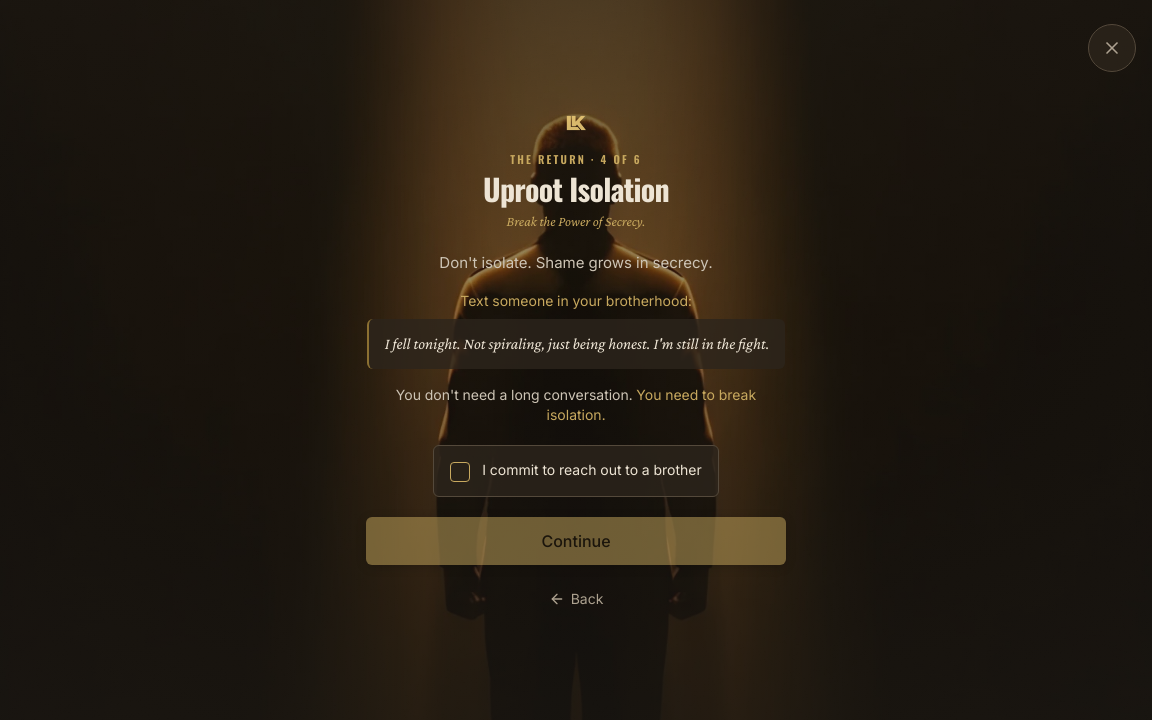
it: app navigation › the return flow (I already fell) persists the fall
Earlier steps of the test are not shown.
Expected: the heading "Uproot Isolation" is shown, 483,171 -> 669,207
Step 1. Click the checkbox → x=460, y=472, box 450,462 -> 470,482
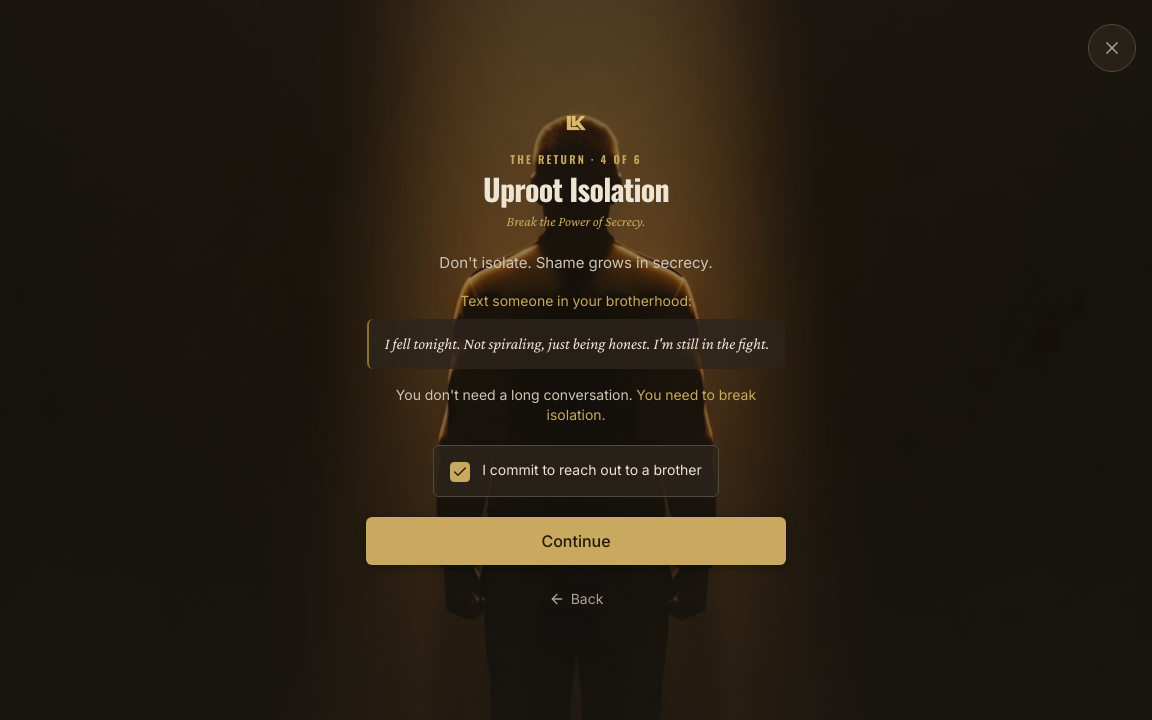
Step 2. Click the button "Continue" → x=576, y=541, box 366,517 -> 786,565
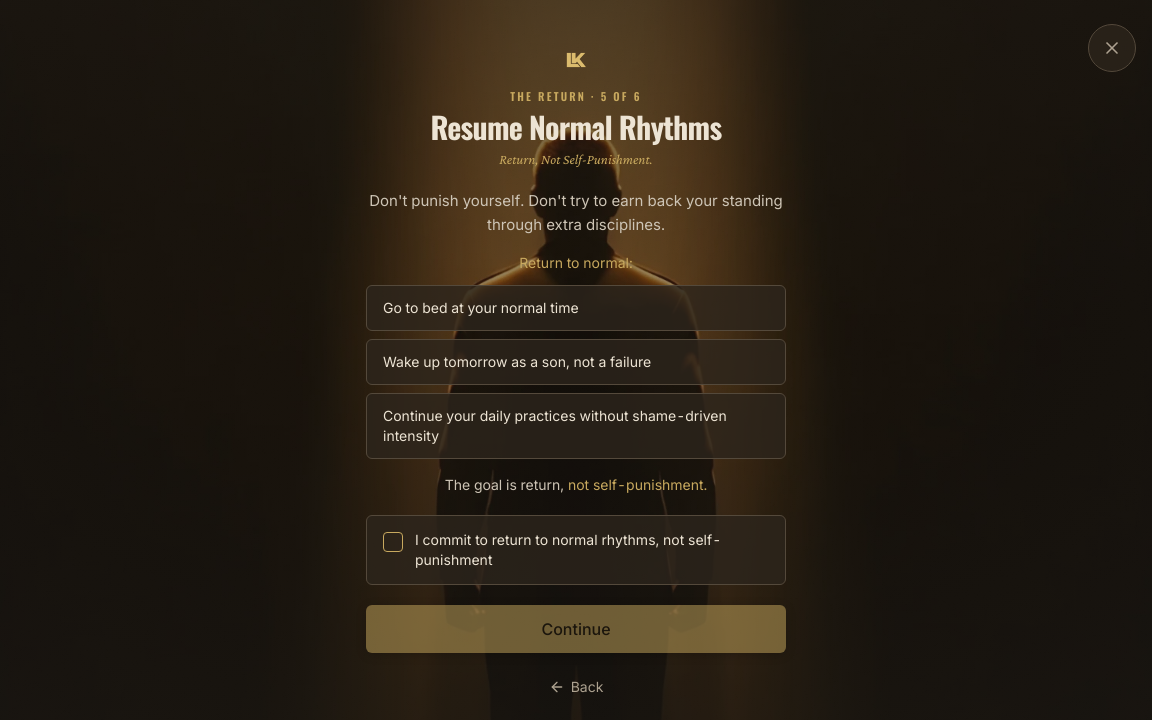
Expected: the heading "Resume Normal Rhythms" is shown, 430,108 -> 721,144
Step 3. Click the checkbox → x=393, y=542, box 383,532 -> 403,552
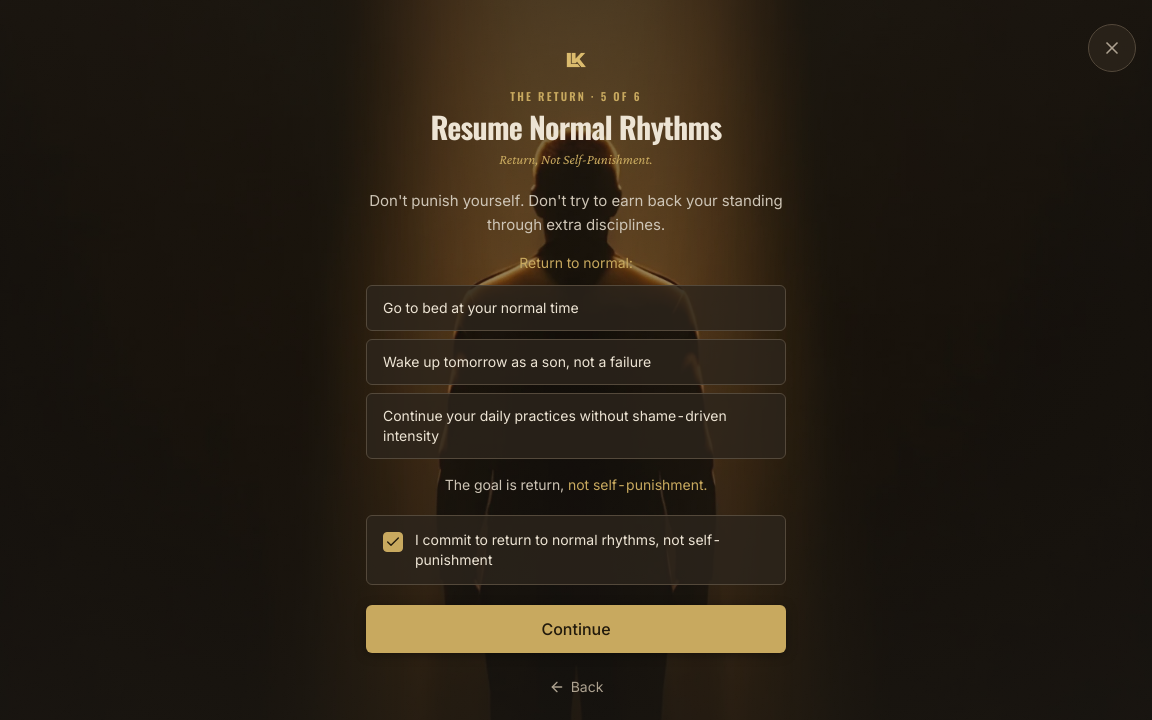
Step 4. Click the button "Continue" → x=576, y=629, box 366,605 -> 786,653
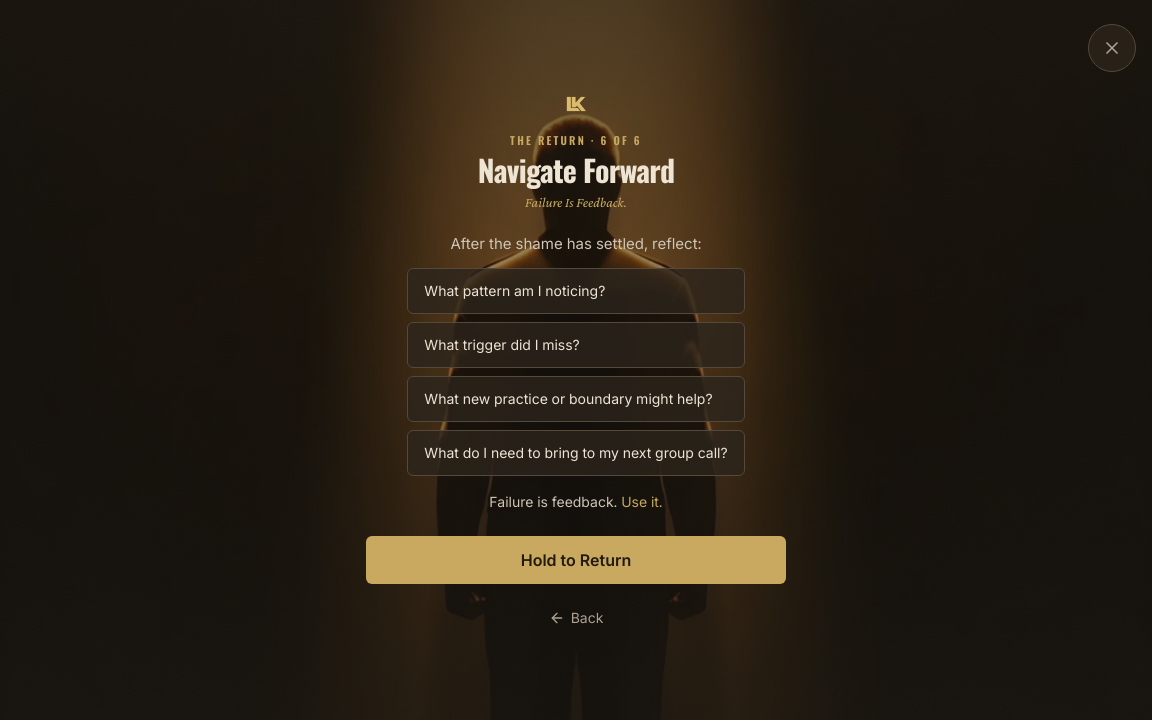
Expected: the heading "Navigate Forward" is shown, 478,152 -> 674,188
Expected: the button "Hold to Return" is enabled
Keyboard users activate the hold button directly with Enter
Step 5. Press Enter in the button "Hold to Return", box 366,536 -> 786,584
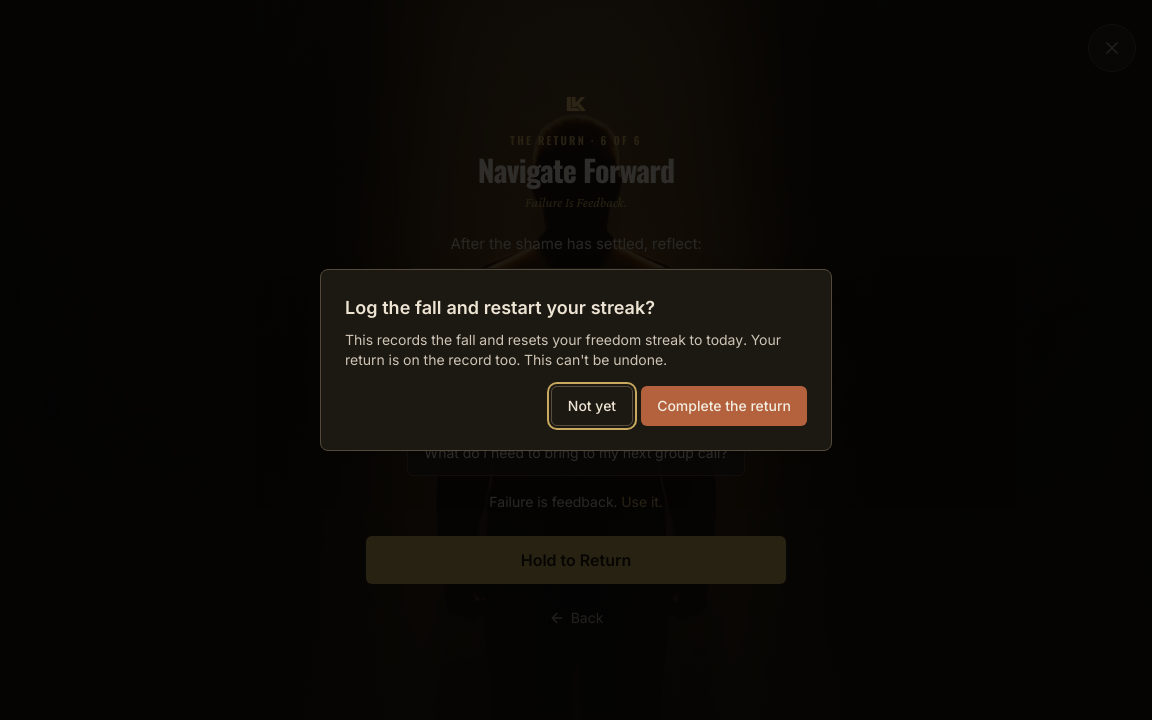
Step 6. Click the button "Complete the return" → x=724, y=406, box 641,386 -> 807,426
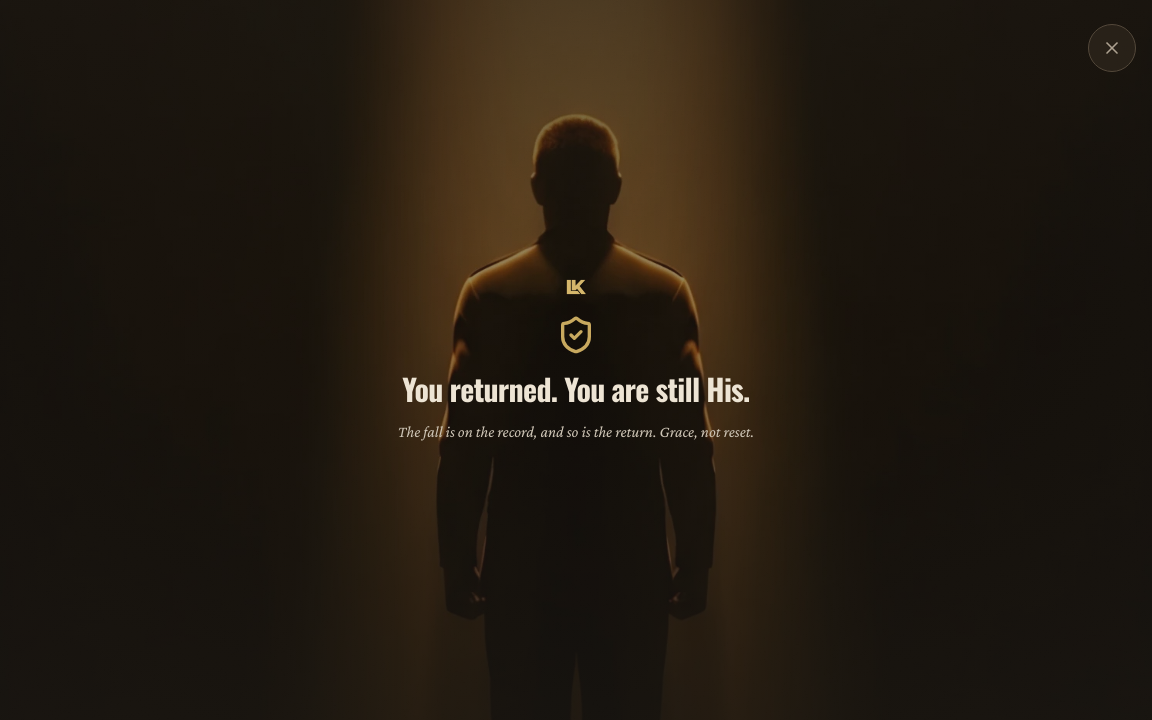
Expected: the heading "You returned. You are still His." is shown, 402,371 -> 750,407
